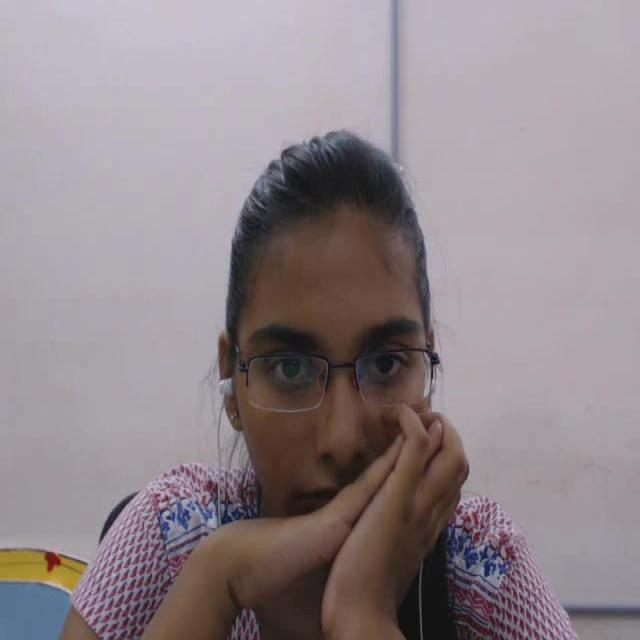Bored: (191, 108, 490, 578)
